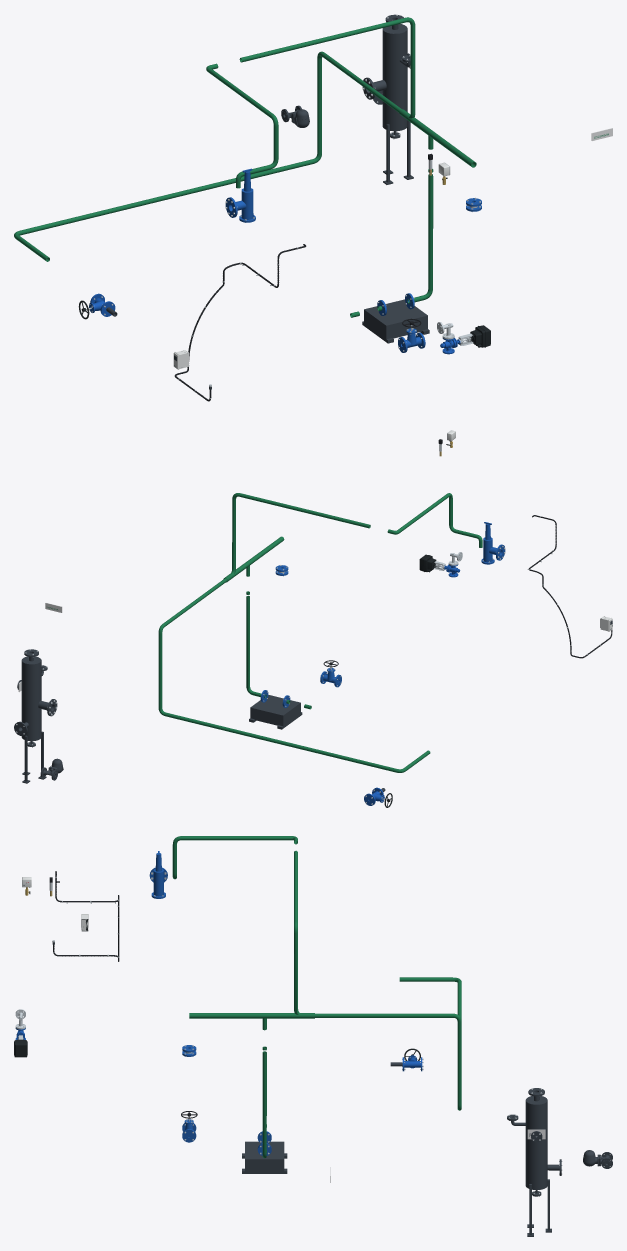
3 views of the same model, one above another, from view 1: azimuth 30°, elevation 25°; view 2: azimuth 150°, elevation 25°; view 3: azimuth 270°, elevation 25° (orthographic). The views are drawn at different scales.
Parts seen in each view (by area): view 1: separator_fv8 / dark, to_economizer / green, pump_branch_2 / dark, to_direct / green, direct_inlet / green, pump_branch_2 / green, safety_2 / blue, bcv925 / bcv925_0.npz, wiring_lp400 / black, pump_delivery / green; view 2: separator_fv8 / dark, to_economizer / green, pump_branch_2 / dark, to_direct / green, direct_inlet / green, pump_branch_2 / green, safety_2 / blue; view 3: separator_fv8 / dark, to_economizer / green, pump_branch_2 / dark, direct_inlet / green, pump_delivery / green, to_direct / green, pump_branch_2 / green.
Boxes of the visible parts, x1=… form: separator_fv8 / dark: x1=362, y1=14, x2=413, y2=184; to_economizer / green: x1=14, y1=51, x2=401, y2=261; pump_branch_2 / dark: x1=362, y1=299, x2=429, y2=343; to_direct / green: x1=239, y1=17, x2=415, y2=118; direct_inlet / green: x1=206, y1=63, x2=278, y2=188; pump_branch_2 / green: x1=350, y1=135, x2=433, y2=317; safety_2 / blue: x1=225, y1=168, x2=255, y2=222; bcv925 / bcv925_0.npz: x1=440, y1=325, x2=490, y2=354; wiring_lp400 / black: x1=174, y1=244, x2=306, y2=401; pump_delivery / green: x1=399, y1=109, x2=476, y2=167; separator_fv8 / dark: x1=14, y1=649, x2=57, y2=783; to_economizer / green: x1=158, y1=578, x2=430, y2=772; pump_branch_2 / dark: x1=249, y1=695, x2=302, y2=729; to_direct / green: x1=225, y1=493, x2=370, y2=580; direct_inlet / green: x1=387, y1=493, x2=482, y2=547; pump_branch_2 / green: x1=246, y1=565, x2=311, y2=709; safety_2 / blue: x1=481, y1=522, x2=505, y2=564; separator_fv8 / dark: x1=507, y1=1088, x2=561, y2=1236; to_economizer / green: x1=315, y1=977, x2=461, y2=1110; pump_branch_2 / dark: x1=242, y1=1141, x2=287, y2=1173; direct_inlet / green: x1=172, y1=836, x2=297, y2=879; pump_delivery / green: x1=189, y1=1013, x2=314, y2=1018; to_direct / green: x1=294, y1=850, x2=299, y2=1014; pump_branch_2 / green: x1=262, y1=1018, x2=266, y2=1158.
Bounding box in the file's own units: 5.81 × 2.8 × 5.95.
